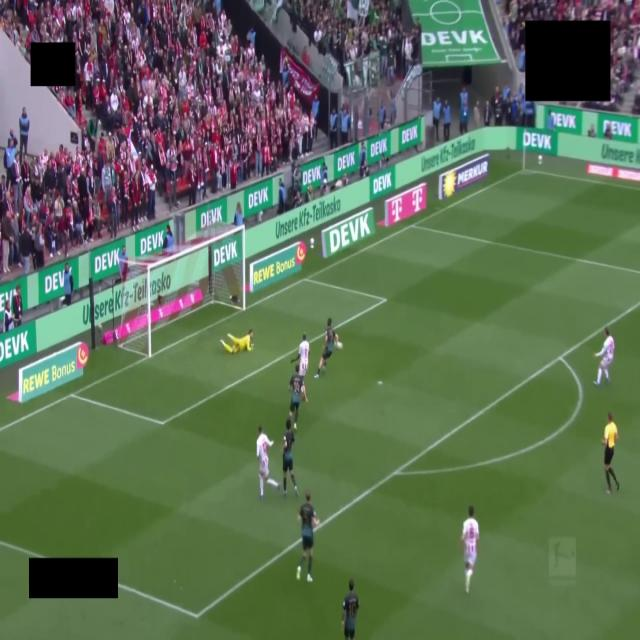ball: (336, 342, 342, 349)
player: (297, 492, 319, 582), (257, 426, 279, 500), (461, 506, 479, 592), (314, 318, 338, 378), (289, 365, 307, 430), (594, 328, 614, 386), (283, 419, 297, 496), (342, 579, 359, 640), (291, 333, 309, 377), (221, 329, 253, 353)
referee: (602, 413, 619, 493)
